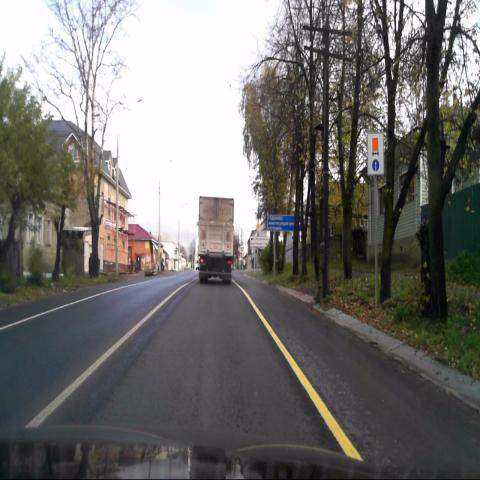4_8_2: (368, 134, 384, 175)
